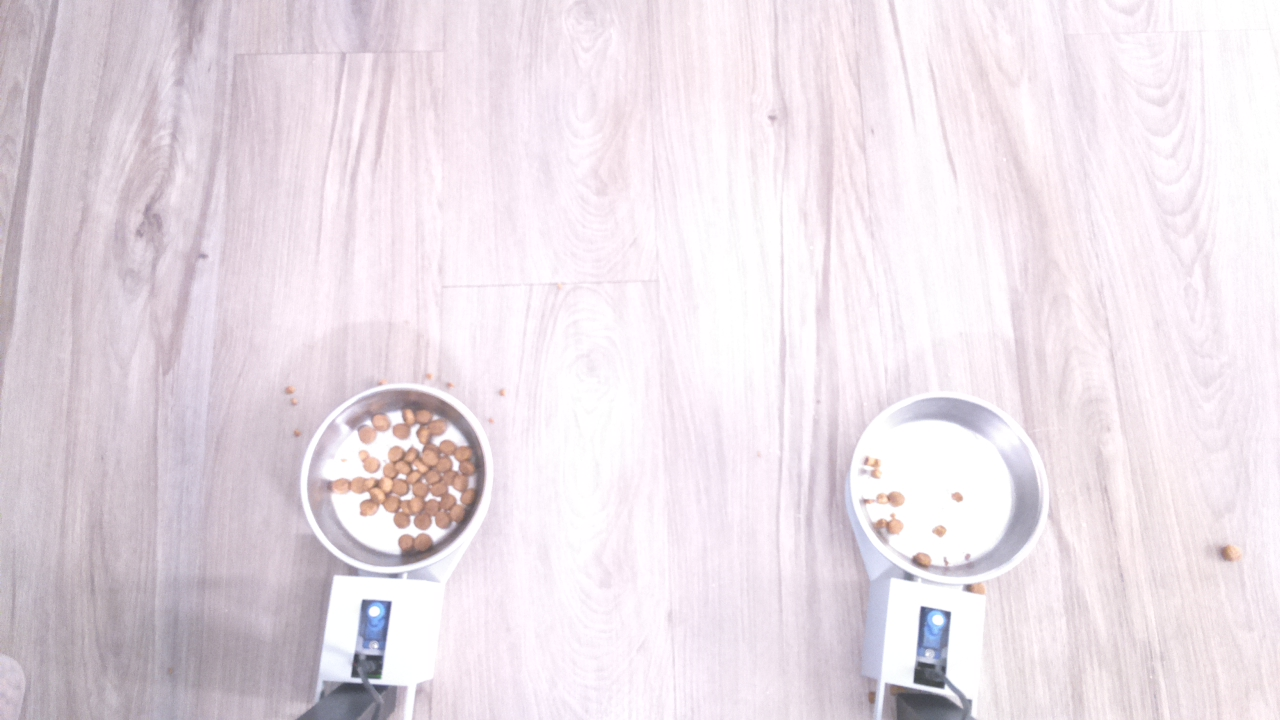open_bowl: (845, 386, 1054, 596), (299, 376, 499, 572)
